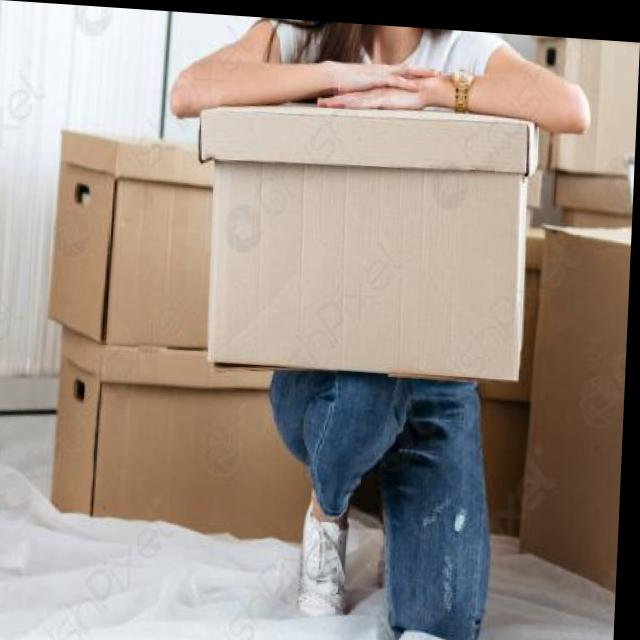box: (192, 89, 550, 392), (43, 310, 319, 542), (516, 215, 632, 610), (41, 111, 210, 378), (523, 28, 639, 180)
